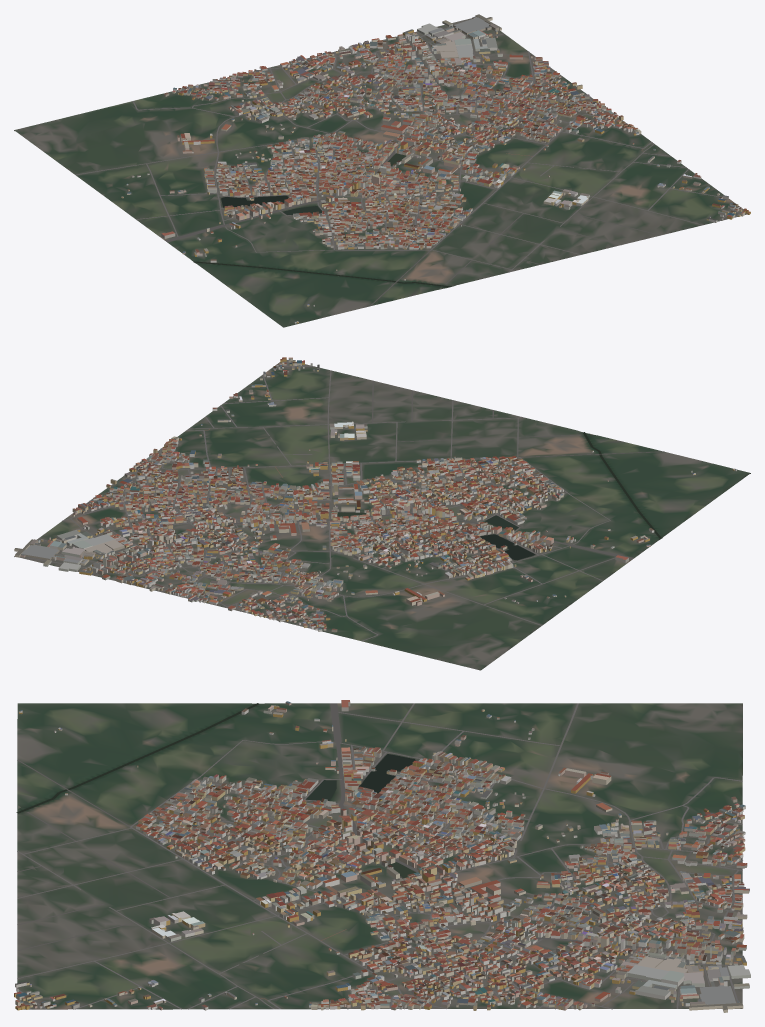
3 renders of one model, top to bottom at view 1: azimuth 30°, elevation 25°; view 2: azimuth 150°, elevation 25°; view 3: azimuth 270°, elevation 25°, orthographic. The views are drawn at different scales.
Parts seen in each view (by area): view 1: ground, buildings, roads, water; view 2: ground, buildings, roads, water; view 3: ground, buildings, roads, water.
Boxes of the visible parts, left/top/right/bottom form: ground: left=14, top=18, right=749, bottom=327; buildings: left=121, top=14, right=750, bottom=323; roads: left=75, top=27, right=745, bottom=306; water: left=193, top=153, right=450, bottom=289; ground: left=14, top=360, right=750, bottom=670; buildings: left=14, top=357, right=736, bottom=632; roads: left=28, top=360, right=664, bottom=641; water: left=337, top=432, right=661, bottom=560; ground: left=17, top=703, right=742, bottom=1009; buildings: left=14, top=700, right=750, bottom=1012; roads: left=17, top=703, right=743, bottom=1009; water: left=16, top=703, right=415, bottom=878.
Size of the model in its own units: 1418 by 29.51 by 1424.
